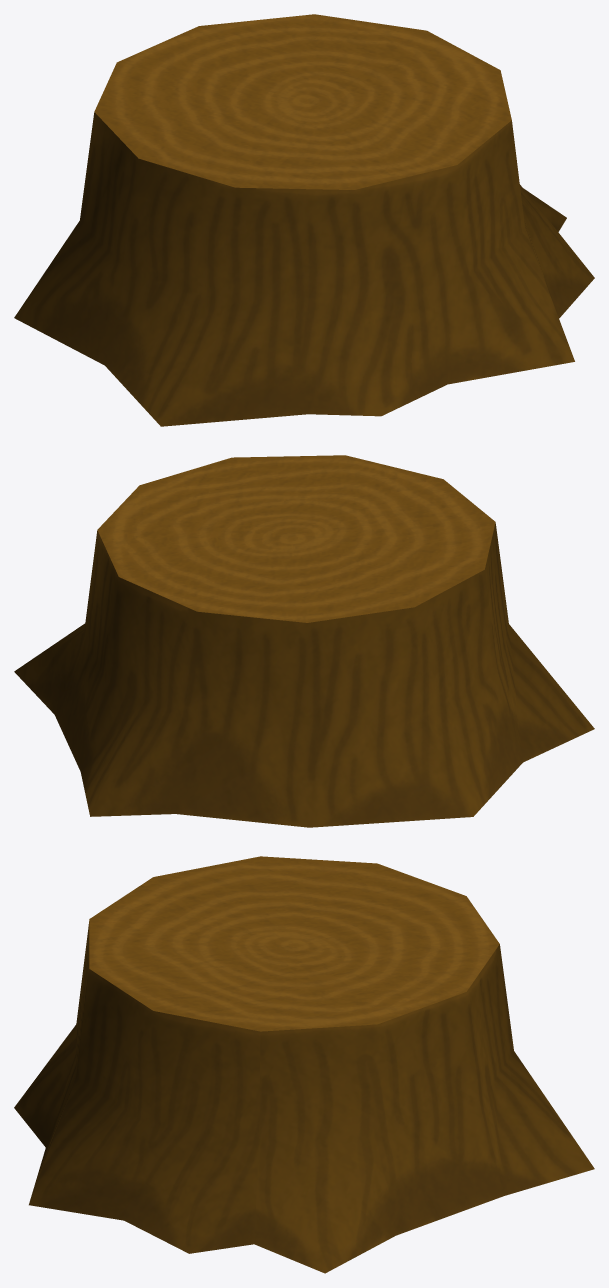
The model's file is trunk.fbx.
The picture shows the model from 3 angles, top to bottom: view 1: azimuth 30°, elevation 25°; view 2: azimuth 150°, elevation 25°; view 3: azimuth 270°, elevation 25°; orthographic projection. The views are drawn at different scales.
Parts seen in each view (by area): view 1: trunk; view 2: trunk; view 3: trunk.
Part boxes in pixels (left/top/right/bottom): trunk: left=14, top=14, right=594, bottom=426; trunk: left=14, top=455, right=594, bottom=827; trunk: left=14, top=856, right=594, bottom=1273.
Size of the model in its own units: 270 by 103 by 264.
